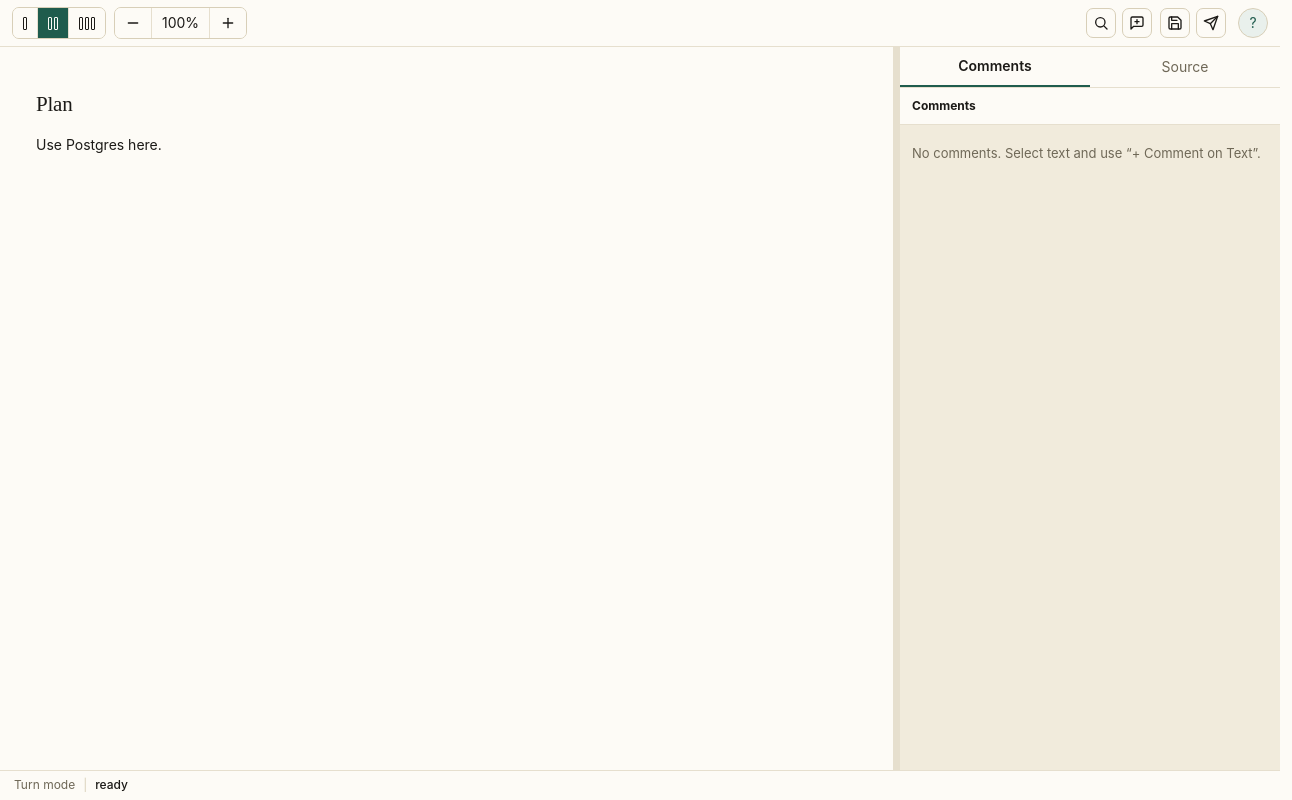
Test case: App-level addComment overlap/anchor gate (protects addSpanComment) › blocks an OVERLAPPING span: sets cant-overlap status and creates no comment
This screenshot has width=1292, height=800.
Click the button named "comment on text". click: (1137, 23)
box: x1=1122 y1=8 x2=1152 y2=38
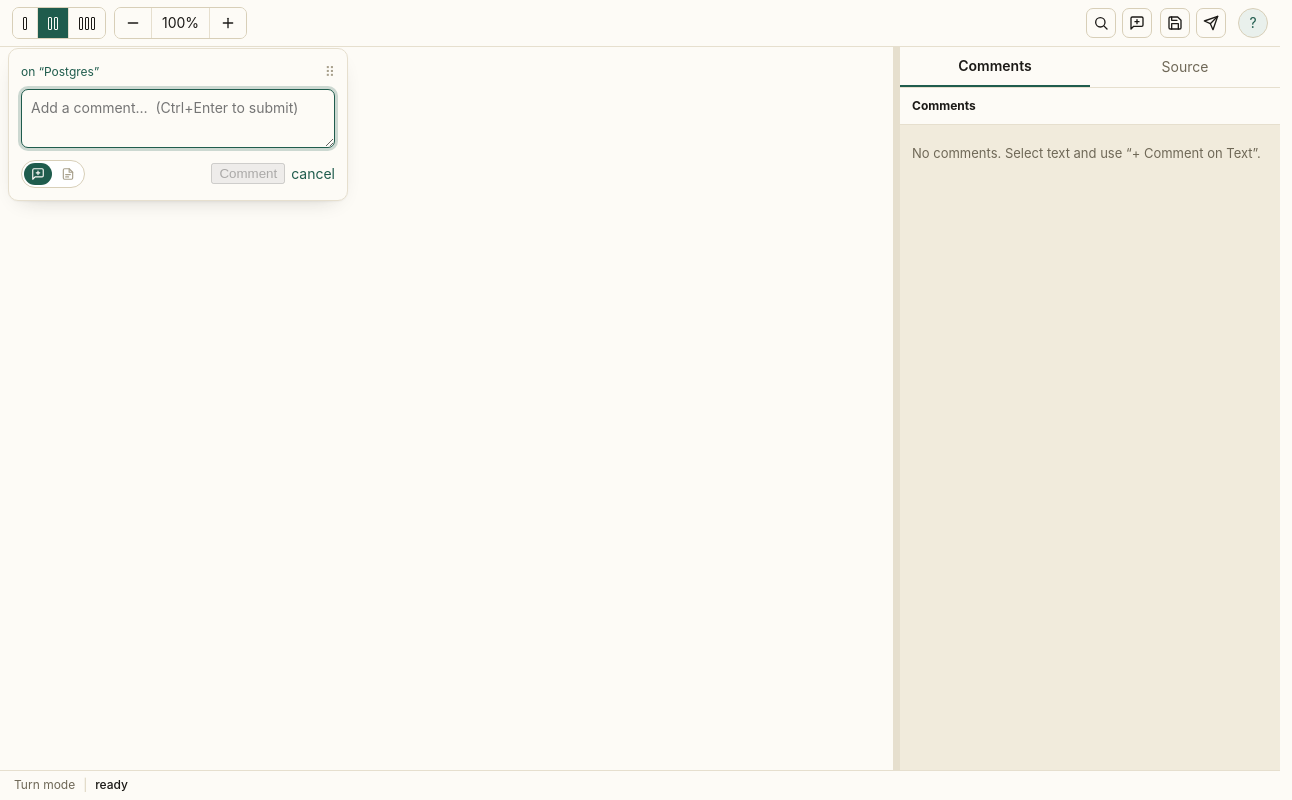
Type "Anchor it to Postgres." into the dropdown with placeholder "Add a comment… (Ctrl+Enter to submit)". click: (178, 118)
box: x1=21 y1=89 x2=335 y2=148
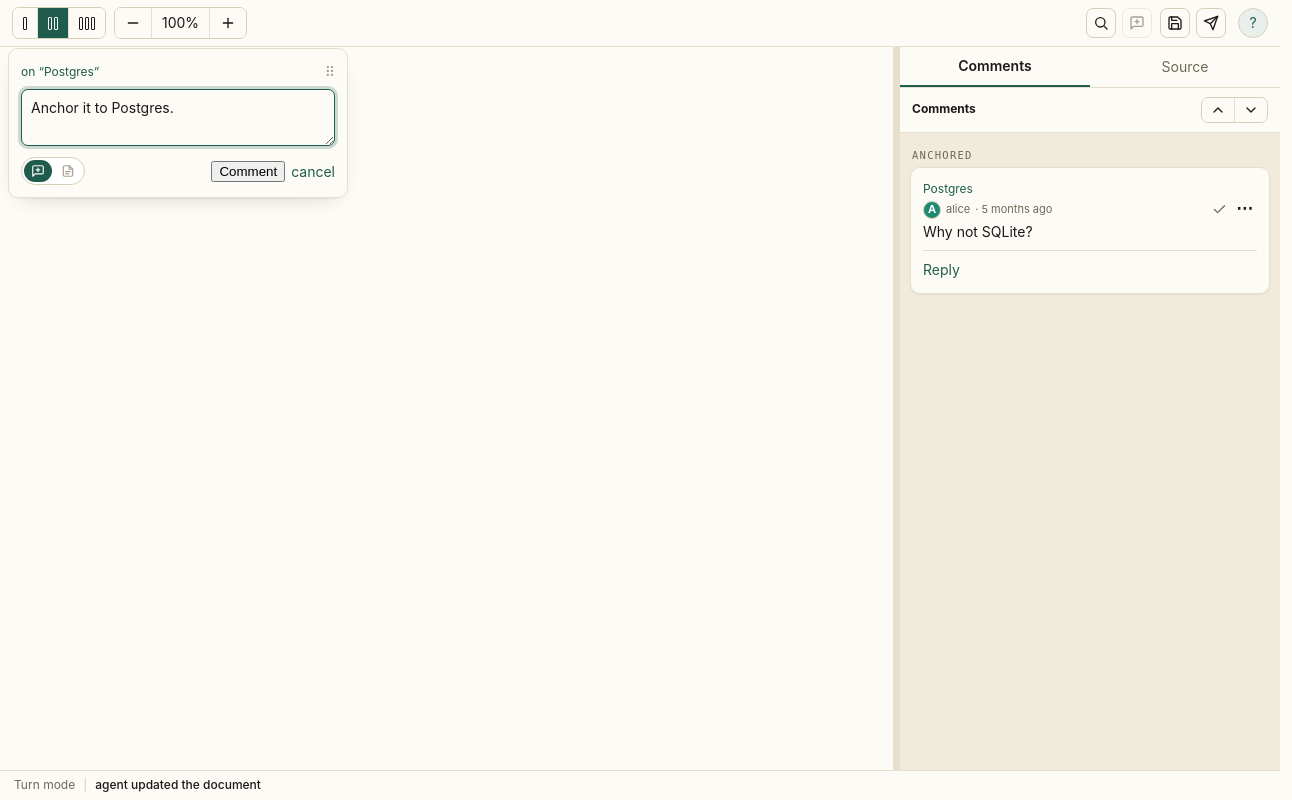
Now the link "Postgres" is shown, box x1=66 y1=136 x2=124 y2=155
Click the button "Comment". click: (248, 171)
box: x1=211 y1=161 x2=285 y2=182
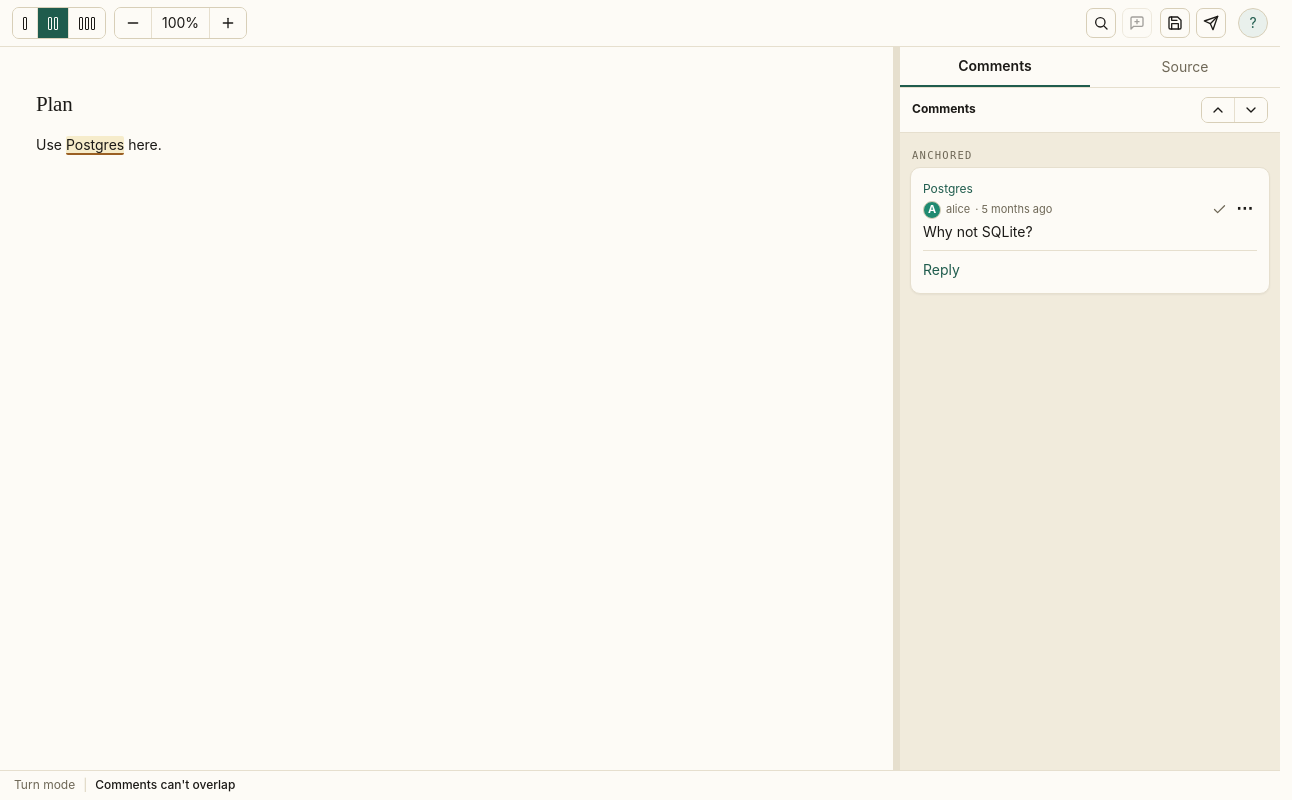
Expected: the text "Anchor it to Postgres." is not shown
Now the number of links is 1, box x1=66 y1=136 x2=124 y2=155
Now the text with class "ap-status-msg" reads "Comments can't overlap", box x1=95 y1=777 x2=235 y2=792
